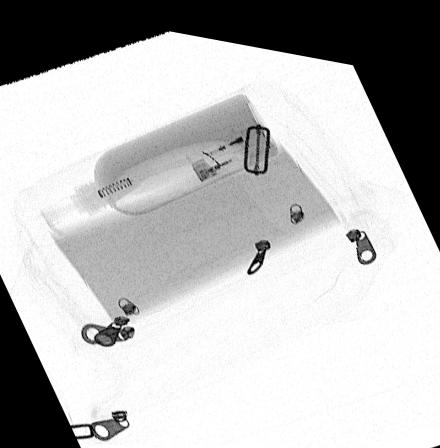Lighter: (185, 113, 273, 174)
